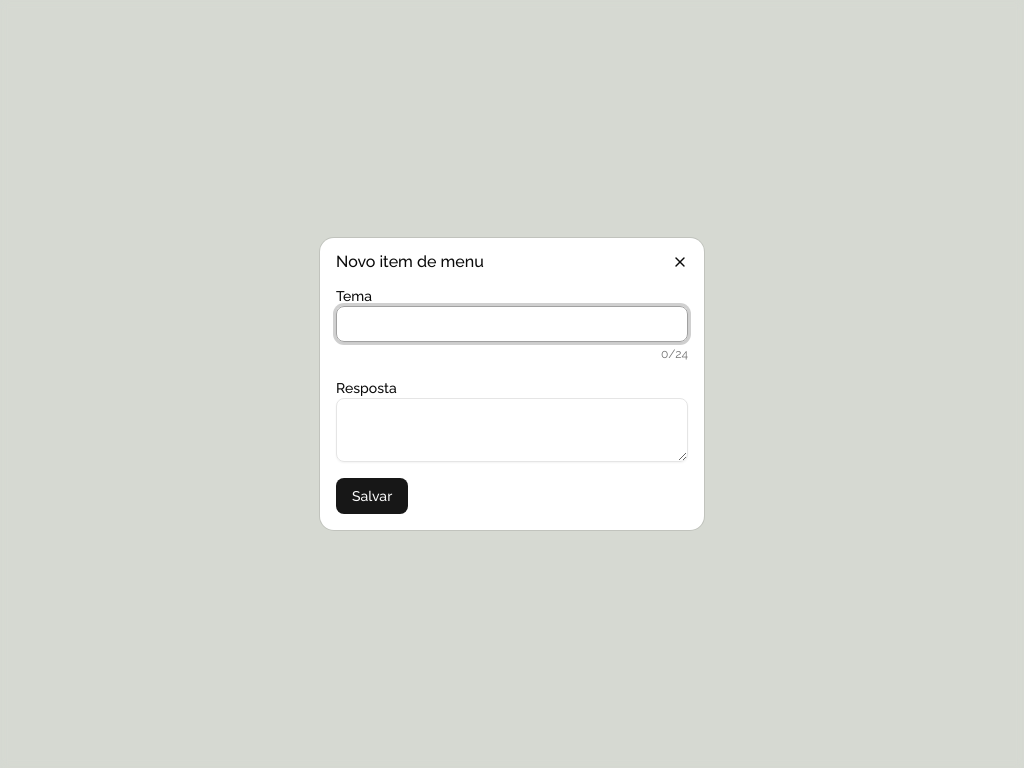
Test: MenuItemDialog › shows an inline error and does not close when saving fails
This screenshot has width=1024, height=768.
Type "Bingo de Plantas" into the field labelled "Tema". click: (512, 324)
box: x1=336 y1=306 x2=688 y2=342
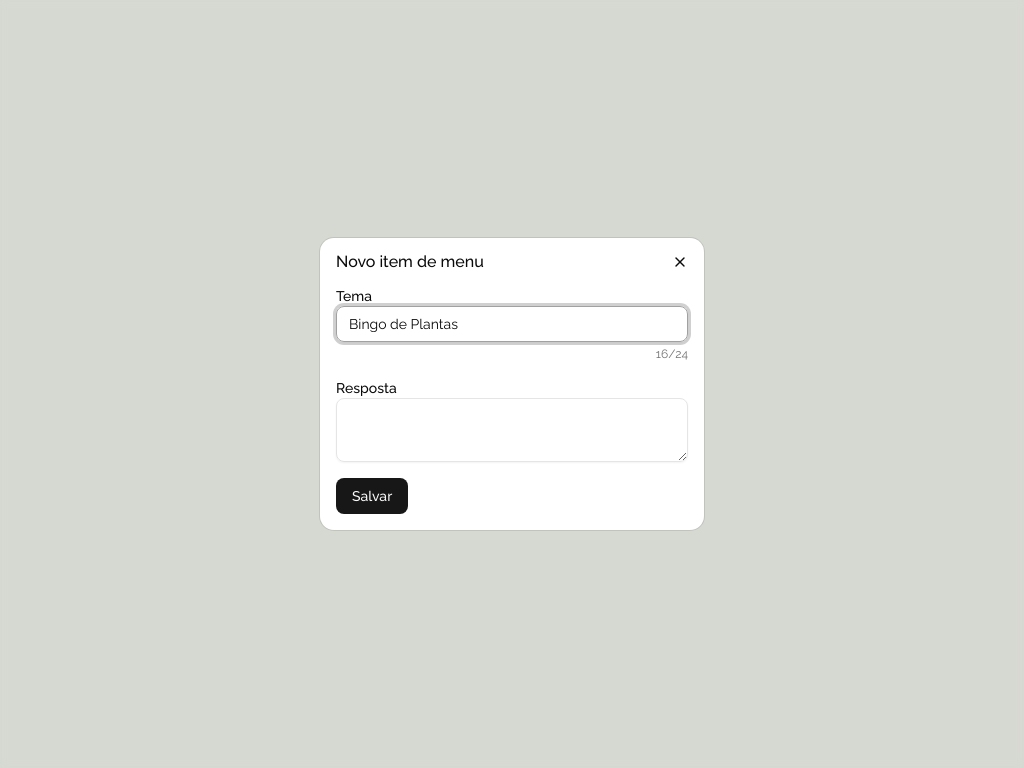
Type "Todo sábado às 16h!" into the text box labelled "Resposta". click: (512, 430)
box: x1=336 y1=398 x2=688 y2=462
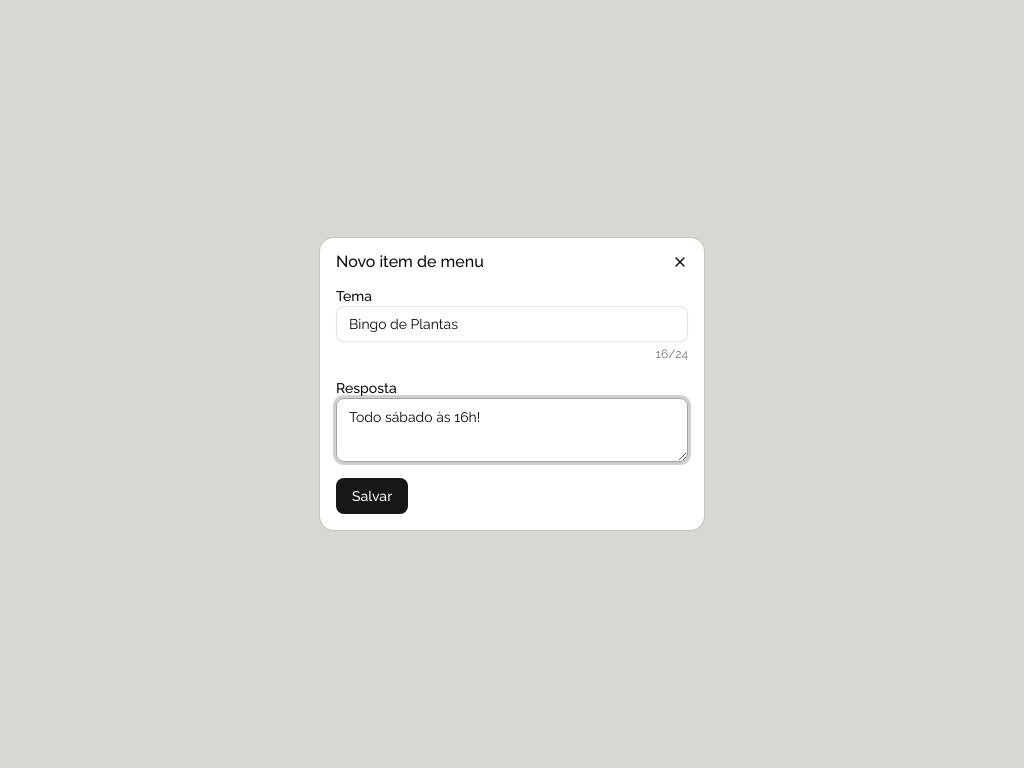
Click the button "Salvar". click: (372, 496)
box: x1=336 y1=478 x2=408 y2=514
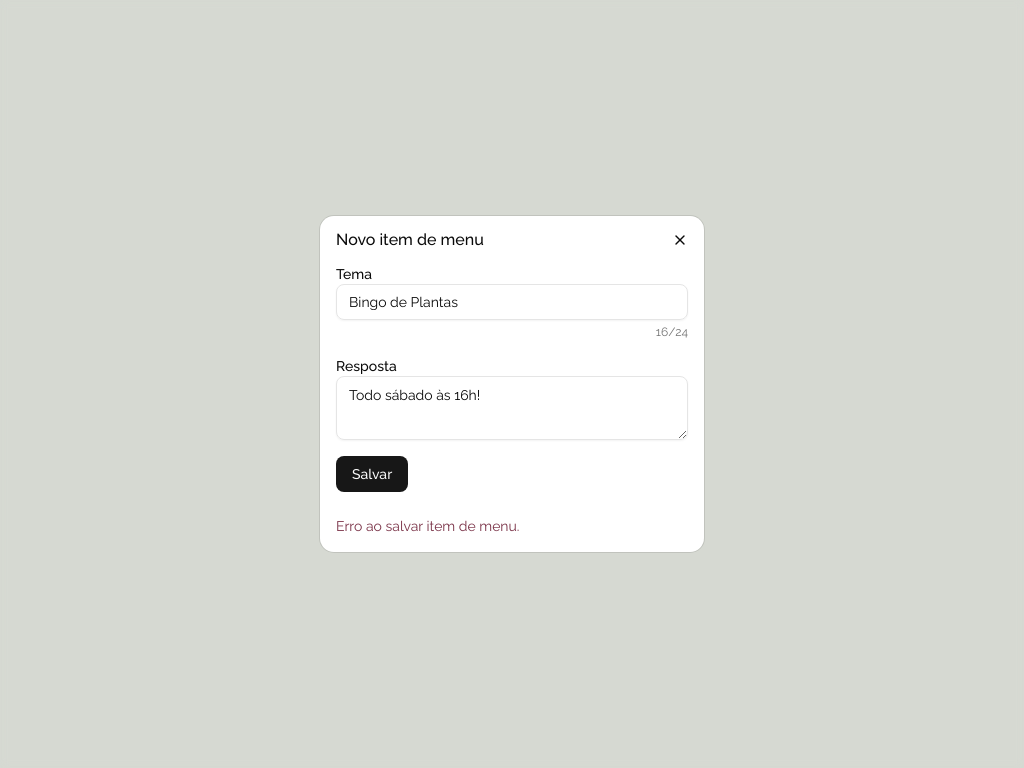
expect the message reads "Erro ao salvar item de menu.": met, box x1=336 y1=518 x2=520 y2=534
